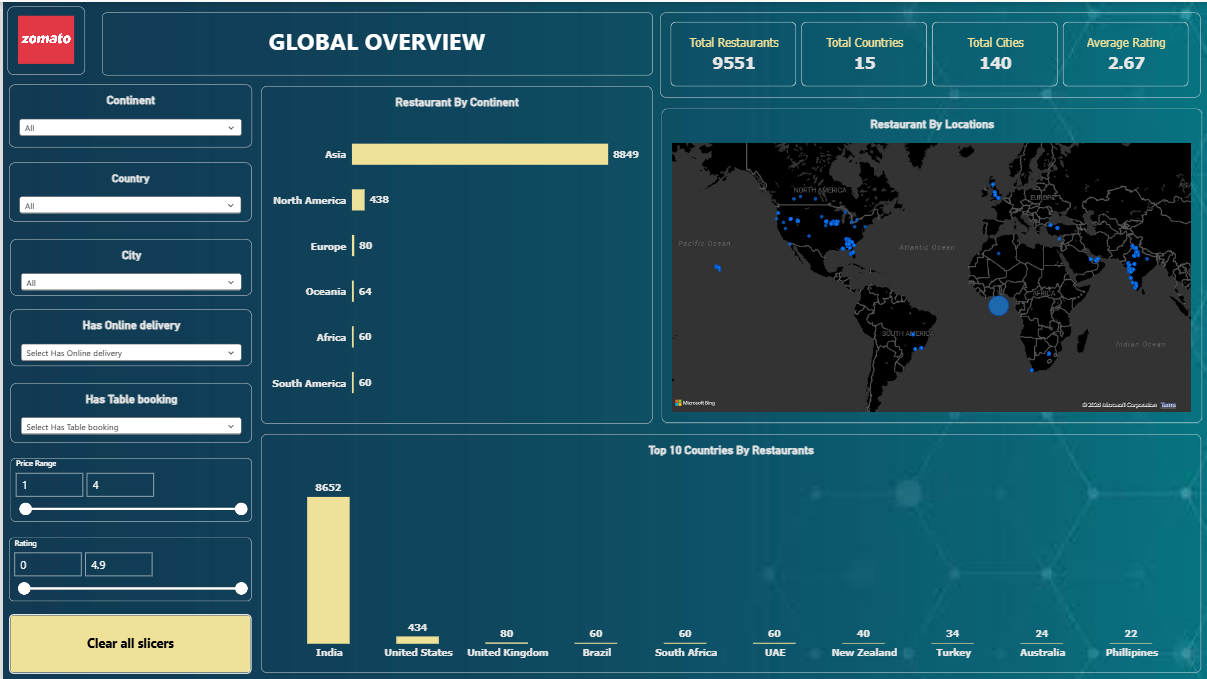

Layout of this report page (visuals, bound fields, positions):
{"tool":"powerbi","page":{"name":"Global Overview","canvas":[1920,1080],"ordinal":0},"visuals":[{"type":"image","box":[0,0,1920,1080],"z":0},{"type":"image","box":[8.3,8.3,123.3,108.3],"z":1000},{"type":"listSlicer","fields":{"Values":["Append1.Continent Hierarchy.Continent"]},"box":[9.5,131.2,386.5,100.2],"z":2000},{"type":"listSlicer","fields":{"Values":["Append1.Continent Hierarchy.Country"]},"box":[10,256,386,94],"z":3000},{"type":"listSlicer","fields":{"Values":["Append1.Continent Hierarchy.City"]},"box":[12,376,384,90],"z":4000},{"type":"listSlicer","fields":{"Values":["KPIs.Has Online delivery"]},"box":[12,490,384,90],"z":5000},{"type":"listSlicer","fields":{"Values":["KPIs.Has Table booking"]},"box":[12.5,605,383.8,95],"z":6000},{"type":"slicer","title":"Rating","fields":{"Values":["KPIs.Price range"]},"box":[12.5,726.2,383.8,101.2],"z":7000},{"type":"slicer","title":"Rating","fields":{"Values":["KPIs.Aggregate rating"]},"box":[10,852.5,386.2,101.2],"z":8000},{"type":"actionButton","box":[10,972.5,386.2,95],"z":9000},{"type":"textbox","box":[157.5,17.5,876.2,100],"z":10000},{"type":"cardVisual","fields":{"Data":["Rest Measures.Total Restaurants","Rest Measures.Total Countries","Rest Measures.Total Cities","Rest Measures.Average Rating"]},"box":[1045,17.5,860,135],"z":11000},{"type":"map","title":"Restaurant By Locations","fields":{"Size":["CountNonNull(Append1.Restaurant ID)"],"X":["Append1.Longitude"],"Y":["Append1.Latitude"]},"box":[1046.7,170,860,500],"z":12000},{"type":"clusteredBarChart","title":"Restaurant By Continent","fields":{"Category":["Append1.Continent"],"Y":["CountNonNull(Append1.Restaurant ID)"]},"box":[410,132.5,622.5,537.5],"z":13000},{"type":"clusteredColumnChart","title":"Top 10 Countries By Restaurants","fields":{"Category":["Append1.Country"],"Y":["CountNonNull(Append1.Restaurant ID)"]},"box":[410,687.5,1495,380],"z":14000}]}

Visuals, with their boxes in screenshot pixels (x1, y1, x2, y2), scaled from the page's 1920x1080 canvas onto the 1207x679 screenshot:
image: [0, 0, 1206, 678]
image: [5, 5, 83, 73]
listSlicer - Append1.Continent Hierarchy.Continent: [6, 82, 249, 145]
listSlicer - Append1.Continent Hierarchy.Country: [6, 161, 249, 220]
listSlicer - Append1.Continent Hierarchy.City: [8, 236, 249, 293]
listSlicer - KPIs.Has Online delivery: [8, 308, 249, 365]
listSlicer - KPIs.Has Table booking: [8, 380, 249, 440]
"Rating" slicer: [8, 457, 249, 520]
"Rating" slicer: [6, 536, 249, 600]
actionButton: [6, 611, 249, 671]
textbox: [99, 11, 650, 74]
cardVisual - Rest Measures.Total Restaurants x Rest Measures.Total Countries: [657, 11, 1198, 96]
"Restaurant By Locations" map: [658, 107, 1199, 421]
"Restaurant By Continent" clusteredBarChart: [258, 83, 649, 421]
"Top 10 Countries By Restaurants" clusteredColumnChart: [258, 432, 1198, 671]
